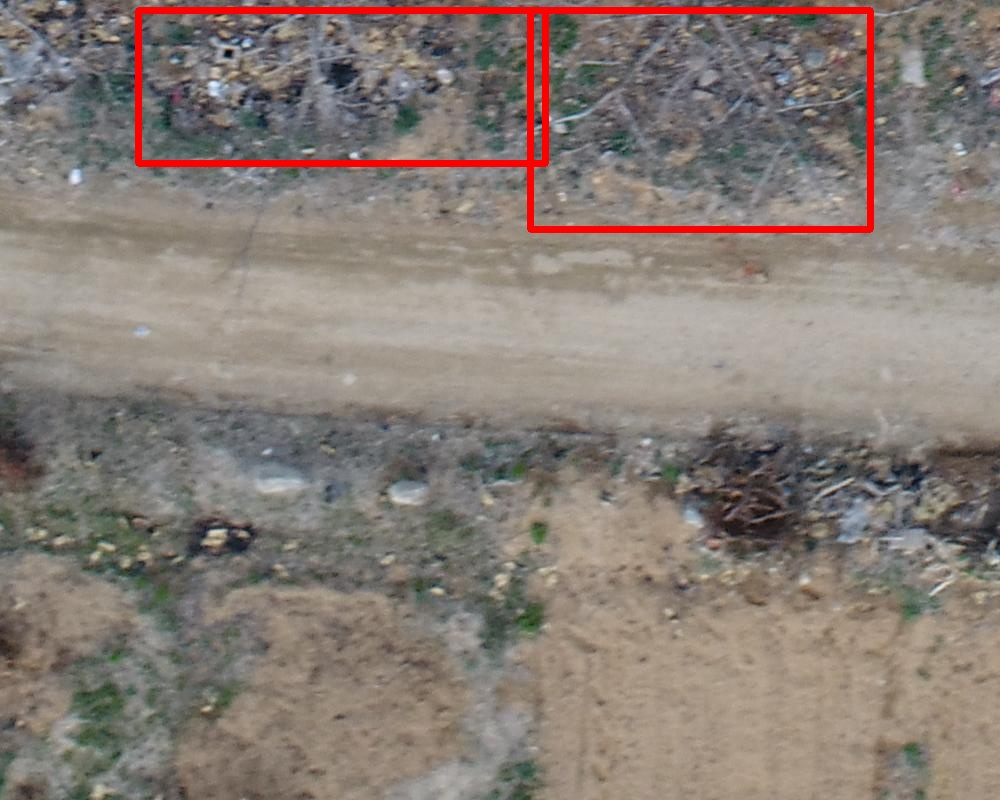apple: (530, 10, 870, 229), (138, 10, 545, 163)
